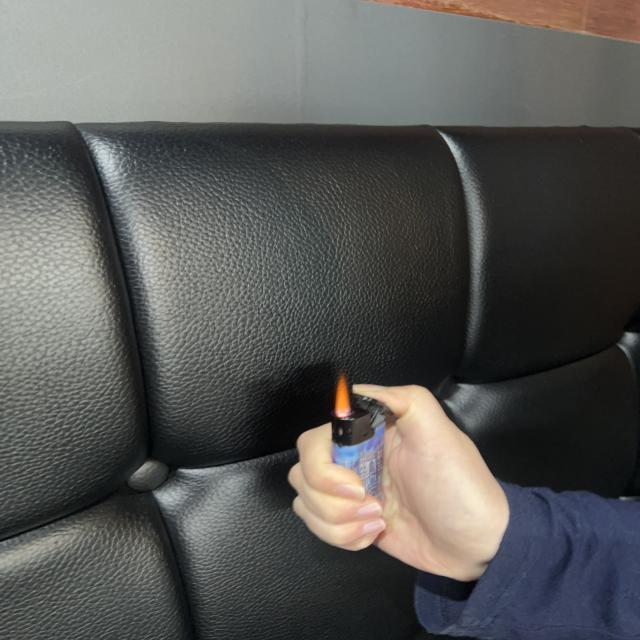fire: (334, 376, 354, 418)
